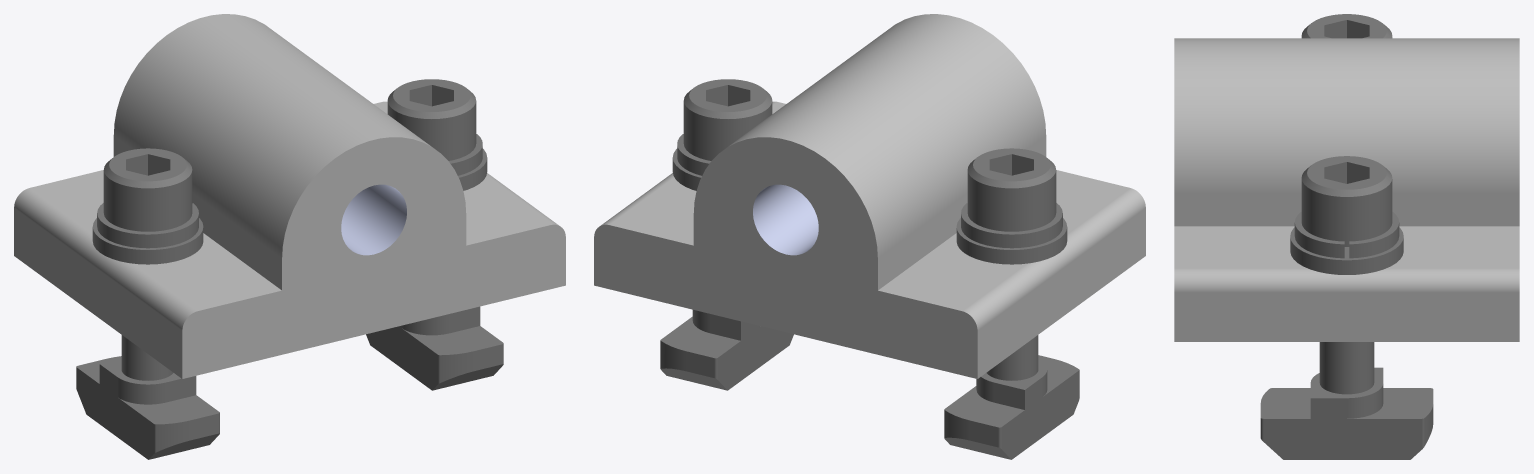
File: TPHR-TPHR-408-4040-M10-ZP-GB.glb
The picture shows the model from 3 angles, left to right: view 1: azimuth 30°, elevation 25°; view 2: azimuth 150°, elevation 25°; view 3: azimuth 270°, elevation 25°; orthographic projection. The views are drawn at different scales.
Visible parts, largest first — view 1: NAUO1, NAUO4, NAUO5, NAUO3, NAUO2; view 2: NAUO1, NAUO4, NAUO5, NAUO3, NAUO2; view 3: NAUO1, NAUO2, NAUO3, NAUO4.
Part boxes in pixels (left/top/right/bottom): NAUO1: left=14, top=14, right=565, bottom=378; NAUO4: left=92, top=148, right=203, bottom=380; NAUO5: left=76, top=356, right=219, bottom=459; NAUO3: left=366, top=306, right=503, bottom=390; NAUO2: left=387, top=79, right=487, bottom=190; NAUO1: left=594, top=14, right=1145, bottom=378; NAUO4: left=956, top=148, right=1067, bottom=380; NAUO5: left=944, top=355, right=1079, bottom=459; NAUO3: left=660, top=310, right=793, bottom=390; NAUO2: left=672, top=79, right=772, bottom=190; NAUO1: left=1174, top=38, right=1519, bottom=341; NAUO2: left=1290, top=156, right=1403, bottom=394; NAUO3: left=1260, top=367, right=1433, bottom=459; NAUO4: left=1301, top=14, right=1392, bottom=38.
Bounding box in the file's own units: 0.05 × 0.0395 × 0.038.
